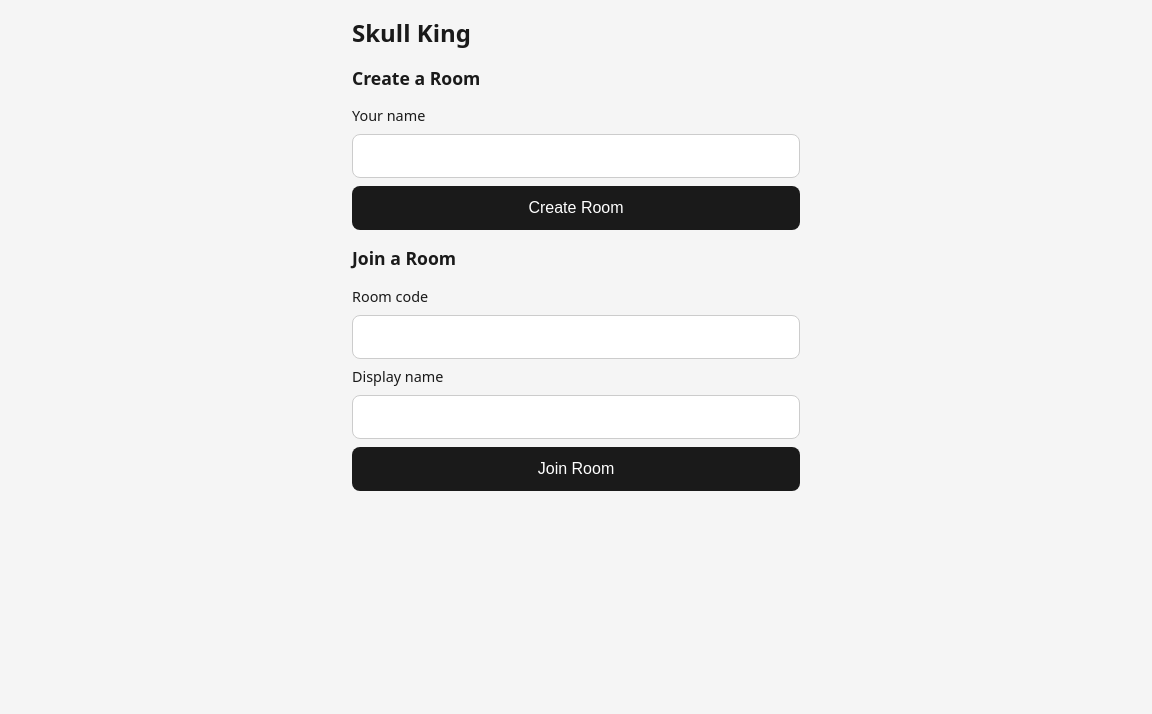
Test: App › lets Bendt the Bandit's discard be chosen, then shows the drawn replacements inferred from the hand diff
Type "Alice" into the field labelled "Your name" at (576, 156), box [352,134,800,178]
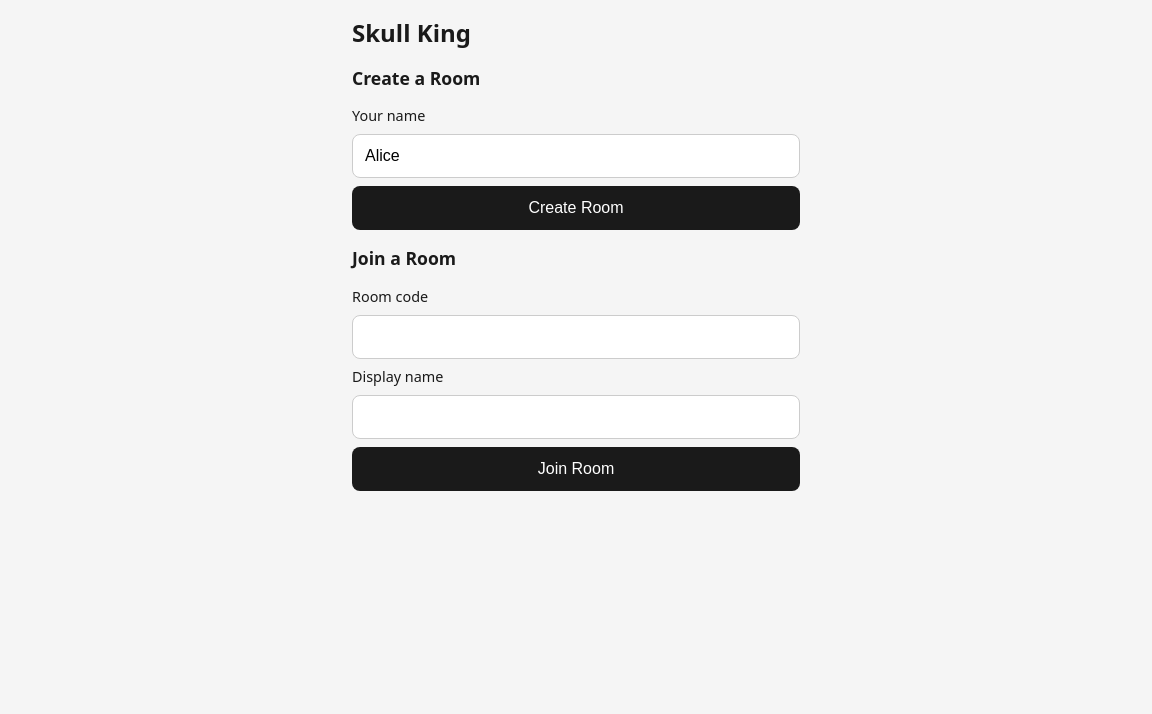
Click the button "Create Room" at (576, 208), box [352,186,800,230]
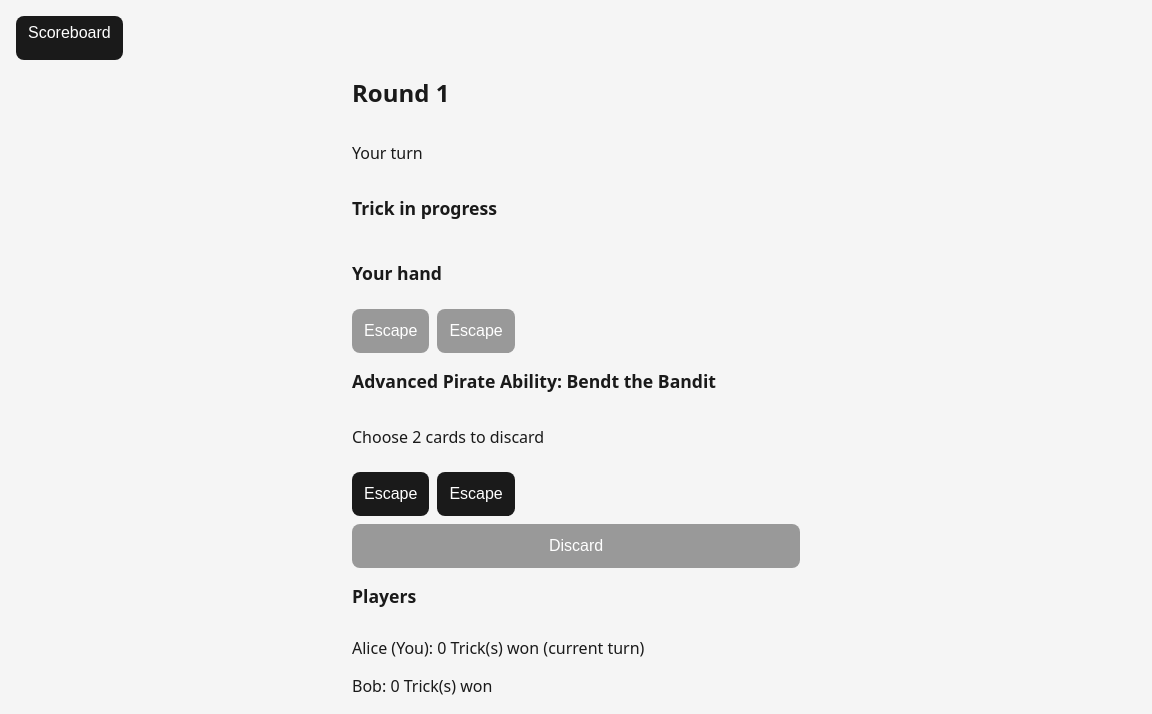
Check: the heading "Round 1" is shown, box [352,76,449,109]
Click the 3rd button "Escape" at (391, 494), box [352,472,429,516]
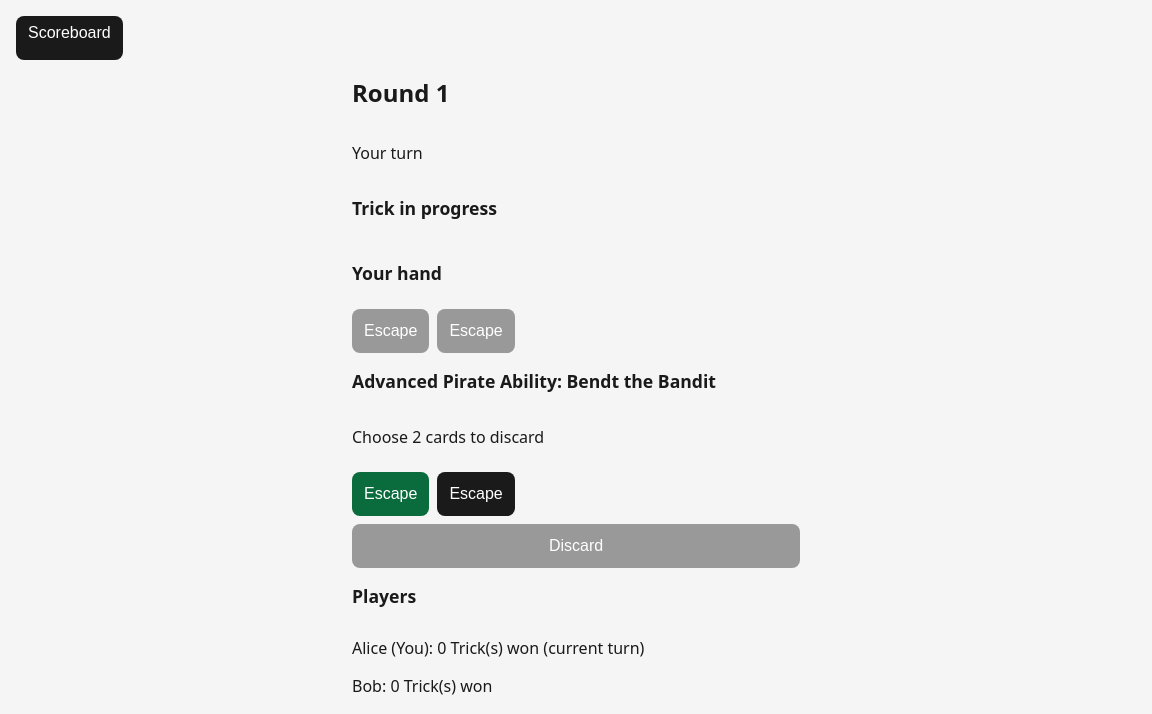
Click the 4th button "Escape" at (476, 494), box [437,472,515,516]
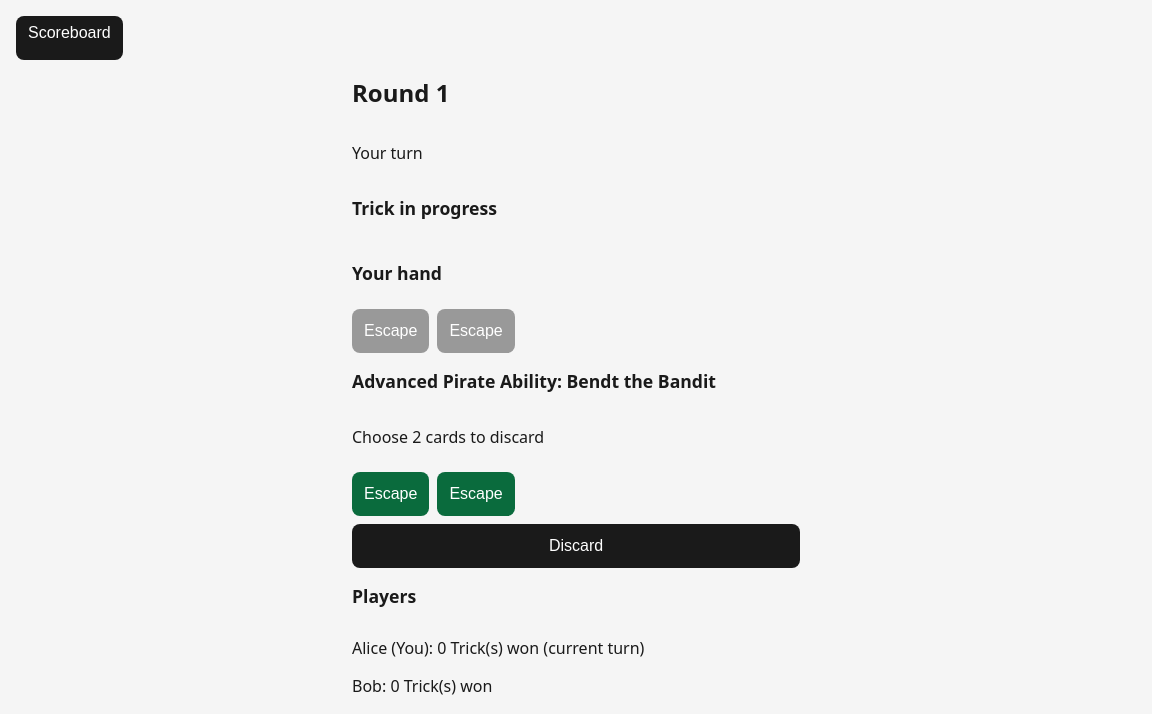
Click the button "Discard" at (576, 546), box [352,524,800,568]
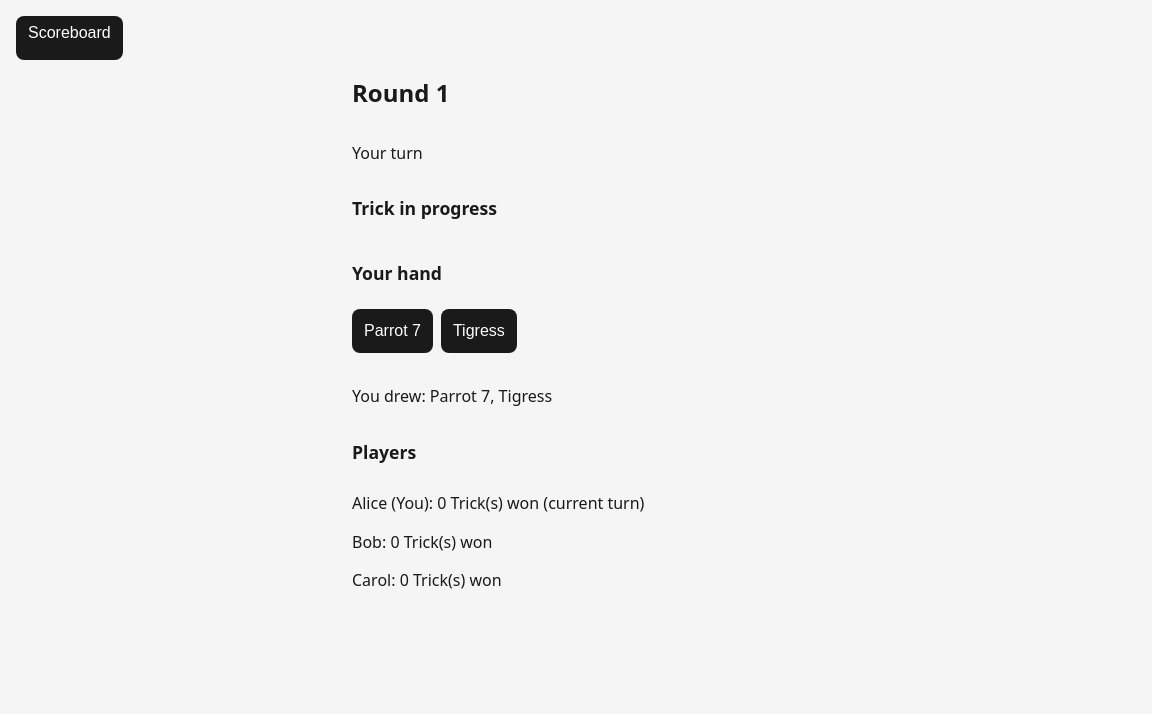
Check: the text "You drew: Parrot 7, Tigress" is shown, box [352,385,552,407]
